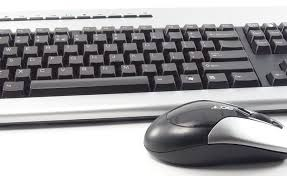keyboard: (0, 12, 287, 110)
mouse: (139, 101, 287, 167)
